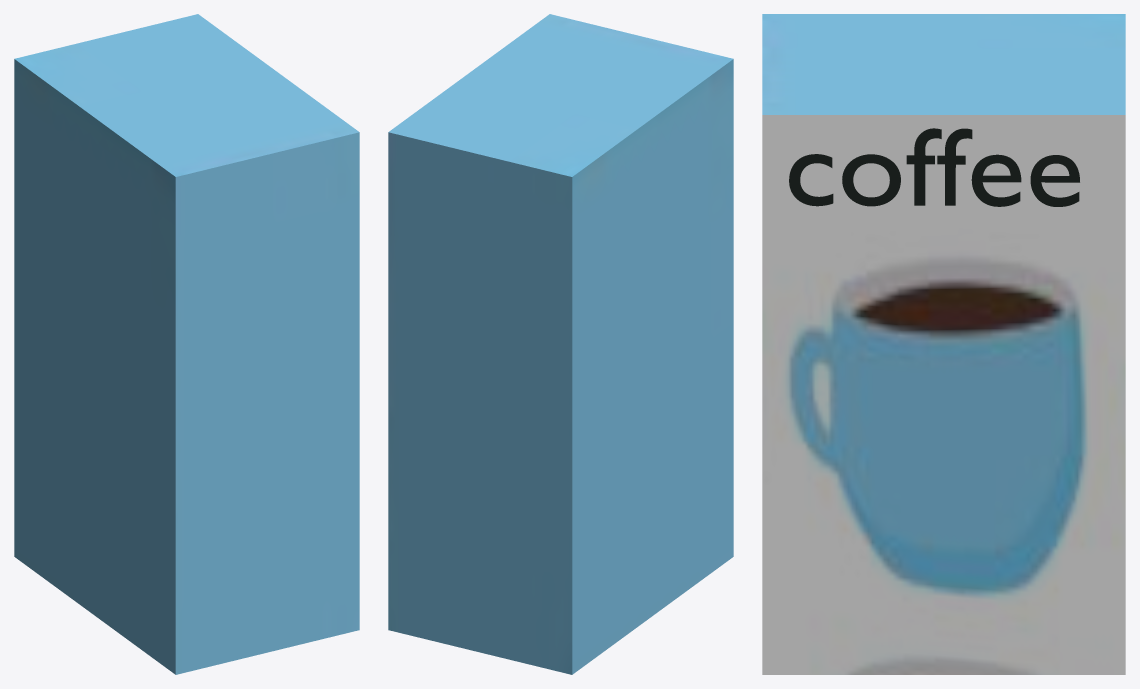
Rendered from coffee 5.fbx.
3 views of the same model, side by side, from view 1: azimuth 30°, elevation 25°; view 2: azimuth 150°, elevation 25°; view 3: azimuth 270°, elevation 25° (orthographic). The views are drawn at different scales.
Parts seen in each view (by area): view 1: Cube.001; view 2: Cube.001; view 3: Cube.001, Text.001.
Boxes of the visible parts, x1,y1,x2,y2 form: Cube.001: [14, 14, 359, 674]; Cube.001: [388, 14, 733, 674]; Cube.001: [762, 14, 1125, 674]; Text.001: [789, 128, 1079, 206].
Size of the model in its own units: 37.75 by 96.15 by 56.55.
2 materials, 1 textured.
